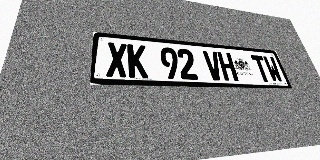2: (176, 48, 198, 80)
9: (159, 47, 181, 79)
H: (217, 52, 239, 81)
K: (127, 44, 148, 78)
T: (250, 55, 272, 82)
V: (202, 51, 224, 81)
W: (262, 56, 284, 83)
X: (106, 42, 128, 77)
